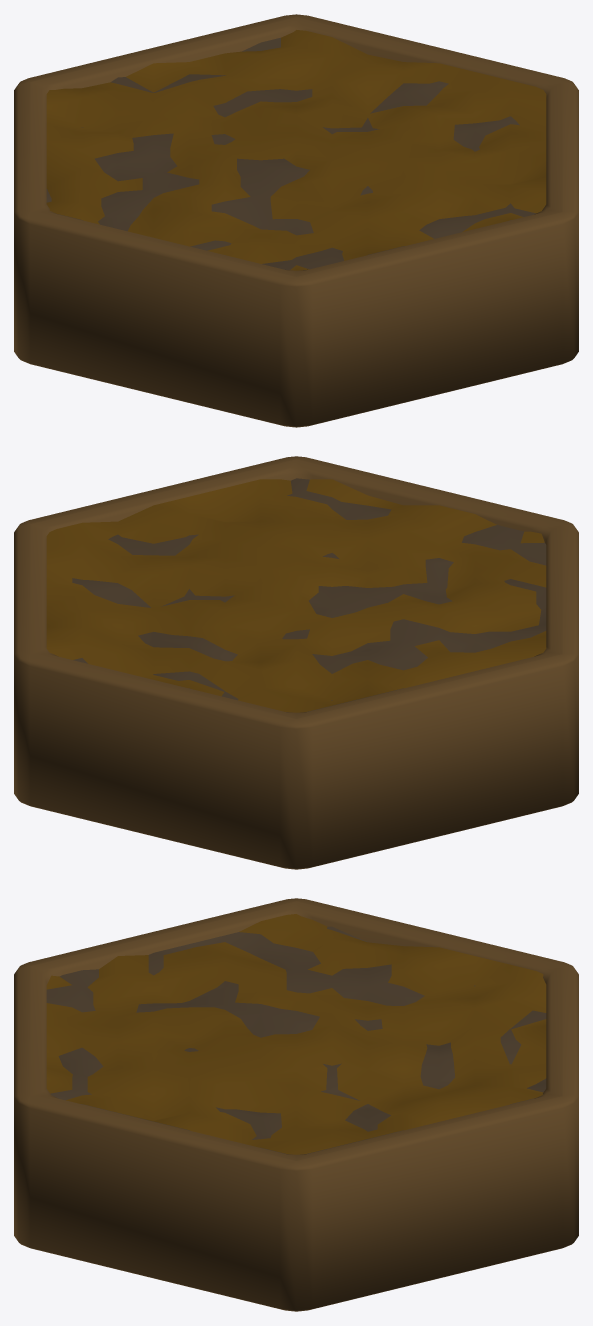
The model's file is dirthex2.fbx.
3 views of the same model, one above another, from view 1: azimuth 30°, elevation 25°; view 2: azimuth 150°, elevation 25°; view 3: azimuth 270°, elevation 25° (orthographic).
Visible parts, largest first — view 1: Cylinder.003, Cylinder.004, Cylinder.005; view 2: Cylinder.003, Cylinder.004, Cylinder.005; view 3: Cylinder.003, Cylinder.004, Cylinder.005.
Part boxes in pixels (bbox=[...]): Cylinder.003: bbox=[14, 14, 578, 427]; Cylinder.004: bbox=[46, 30, 546, 270]; Cylinder.005: bbox=[46, 37, 535, 269]; Cylinder.003: bbox=[14, 456, 578, 869]; Cylinder.004: bbox=[46, 479, 546, 712]; Cylinder.005: bbox=[72, 478, 546, 711]; Cylinder.003: bbox=[14, 898, 578, 1311]; Cylinder.004: bbox=[46, 914, 546, 1154]; Cylinder.005: bbox=[46, 926, 546, 1153].
Size of the model in its own units: 197 by 50 by 173.
